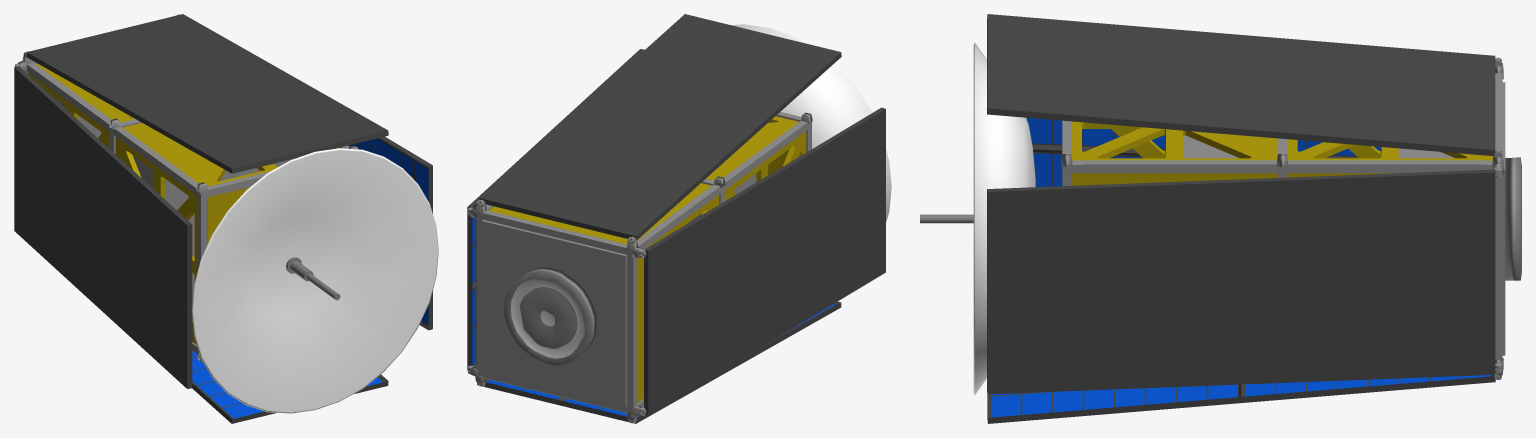
File: sat_2_optimized.glb
The picture shows the model from 3 angles, left to right: view 1: azimuth 30°, elevation 25°; view 2: azimuth 150°, elevation 25°; view 3: azimuth 270°, elevation 25°; orthographic projection. The views are drawn at different scales.
Parts seen in each view (by area): view 1: Cube.002, Cube.026, Cube.007, Cube.001, Cube.022, Cube.021; view 2: Cube.026, Cube.007, Cube.002, Cube.001, Cube.022, Cube.021, Cylinder; view 3: Cube.021, Cube.007, Cube.002, Cube.022, Cube.001, Cube.026.
Part boxes in pixels (x1,y1,x2,y2): Cube.002: (15,15,438,413); Cube.026: (14,66,192,388); Cube.007: (26,14,388,173); Cube.001: (28,63,339,344); Cube.022: (192,351,388,423); Cube.021: (348,136,432,330); Cube.026: (642,107,885,414); Cube.007: (479,14,841,240); Cube.002: (468,24,891,423); Cube.001: (488,116,806,402); Cube.022: (479,301,841,423); Cube.021: (467,49,644,371); Cylinder: (511,279,584,358); Cube.021: (987,169,1499,394); Cube.007: (987,14,1500,156); Cube.002: (920,43,1521,394); Cube.022: (987,375,1495,423); Cube.001: (1071,121,1493,185); Cube.026: (1026,117,1381,187).
Bounding box in the file's own units: 3.42 × 3.42 × 5.83.
Materials: 2 (1 with a texture image).
